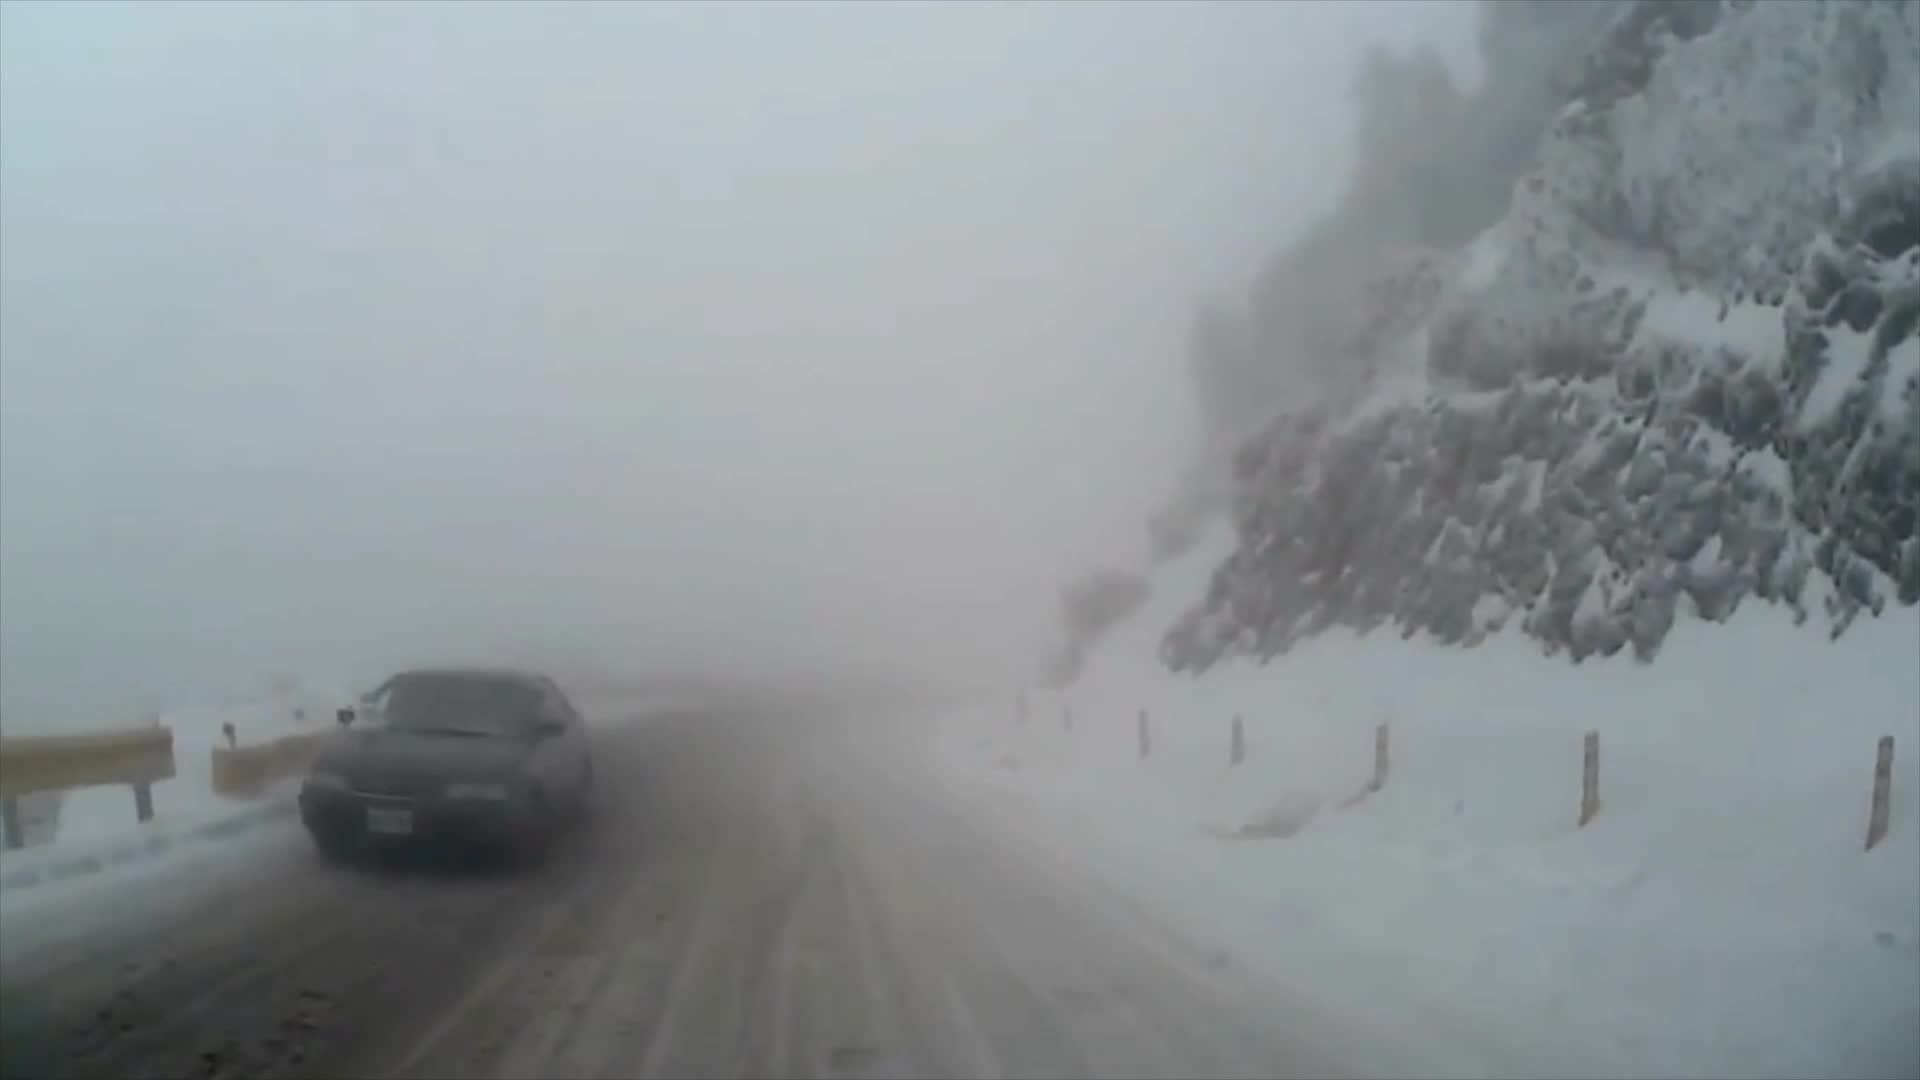vehicle: (298, 665, 597, 876)
